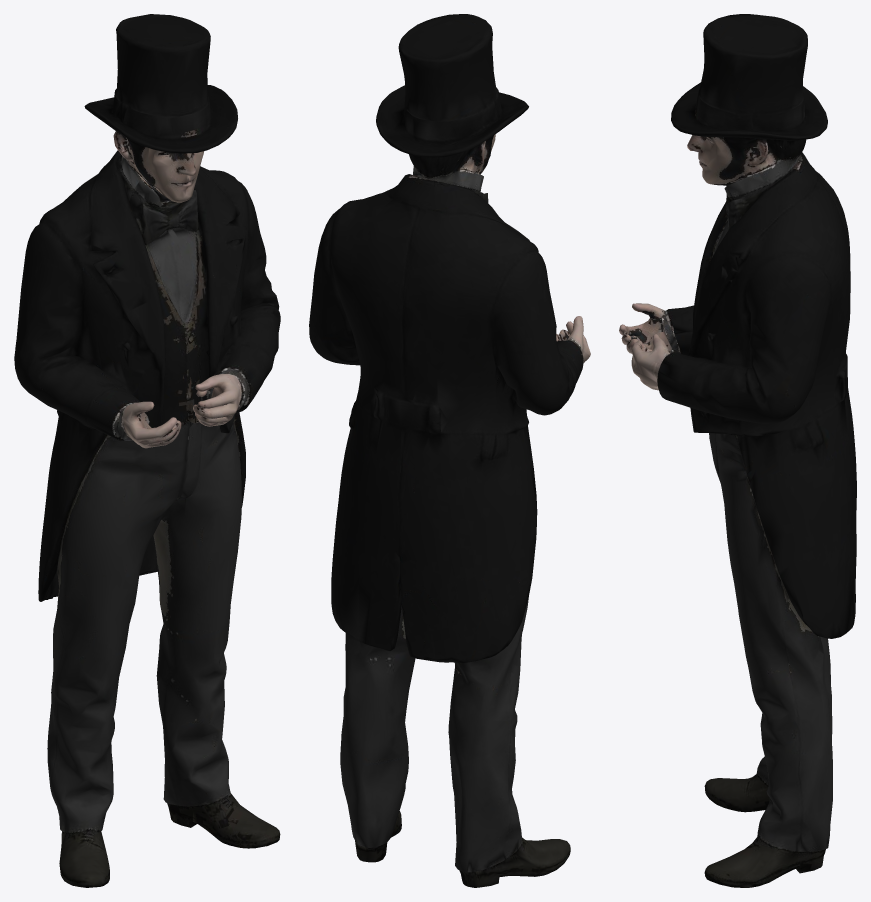
File: merchant.glb
3 renders of one model, left to right at view 1: azimuth 30°, elevation 25°; view 2: azimuth 150°, elevation 25°; view 3: azimuth 270°, elevation 25°, orthographic.
Parts seen in each view (by area): view 1: Object_4; view 2: Object_4; view 3: Object_4.
Boxes of the visible parts, x1,y1,x2,y2 form: Object_4: (14, 14, 280, 887); Object_4: (309, 14, 590, 887); Object_4: (619, 14, 856, 887).
Bounding box in the file's own units: 0.3207 × 0.9999 × 0.2655.
Materials: 1 (1 with a texture image).
